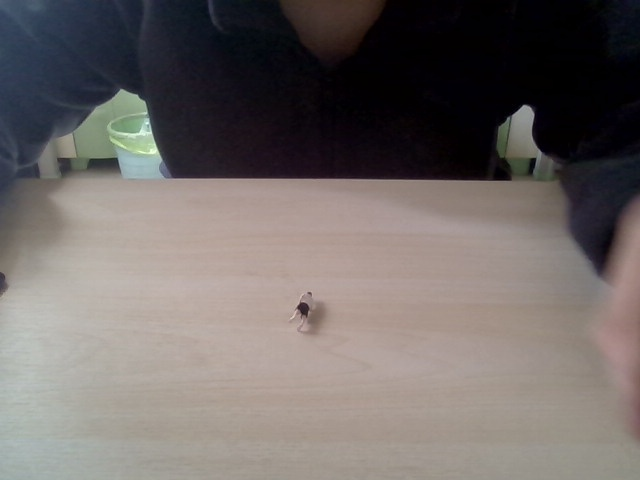fall: (284, 284, 321, 336)
